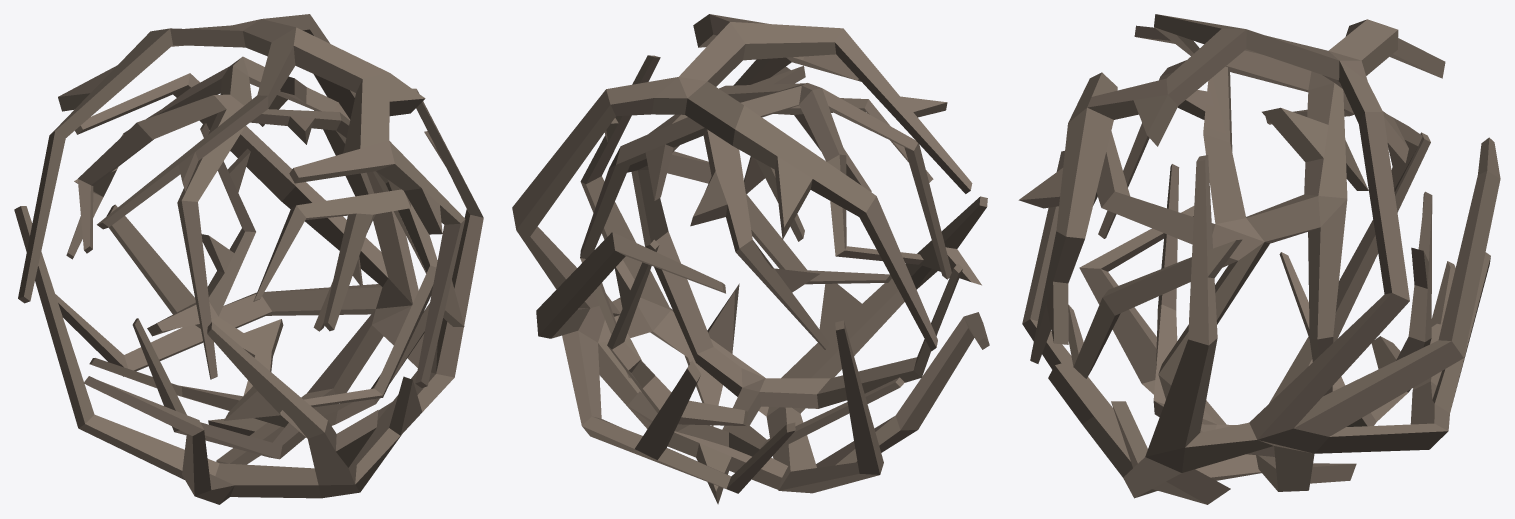
Rendered from tumbleweed.glb.
The picture shows the model from 3 angles, left to right: view 1: azimuth 30°, elevation 25°; view 2: azimuth 150°, elevation 25°; view 3: azimuth 270°, elevation 25°; orthographic projection. The views are drawn at different scales.
Visible parts, largest first — view 1: SM_Prop_Tumbleweed_01; view 2: SM_Prop_Tumbleweed_01; view 3: SM_Prop_Tumbleweed_01.
Boxes of the visible parts, left/top/right/bottom form: SM_Prop_Tumbleweed_01: left=14, top=14, right=483, bottom=504; SM_Prop_Tumbleweed_01: left=512, top=14, right=989, bottom=504; SM_Prop_Tumbleweed_01: left=1018, top=14, right=1500, bottom=504.
Size of the model in its own units: 0.6045 by 0.6361 by 0.5739.
